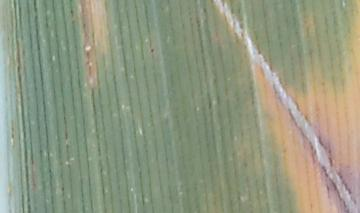tarspot: (68, 8, 75, 18), (201, 5, 208, 14), (60, 185, 67, 193), (149, 47, 155, 54)
